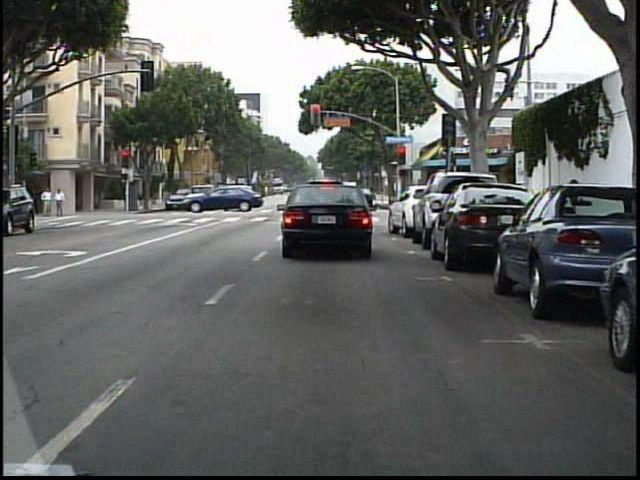person: (41, 186, 57, 220), (54, 187, 69, 219), (37, 187, 38, 218)
